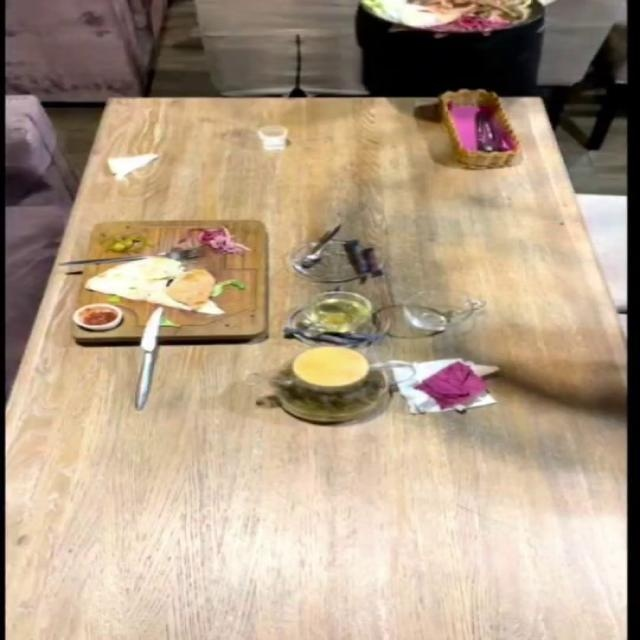meat: (69, 217, 274, 347), (350, 0, 562, 51)
tea: (269, 346, 388, 422)
